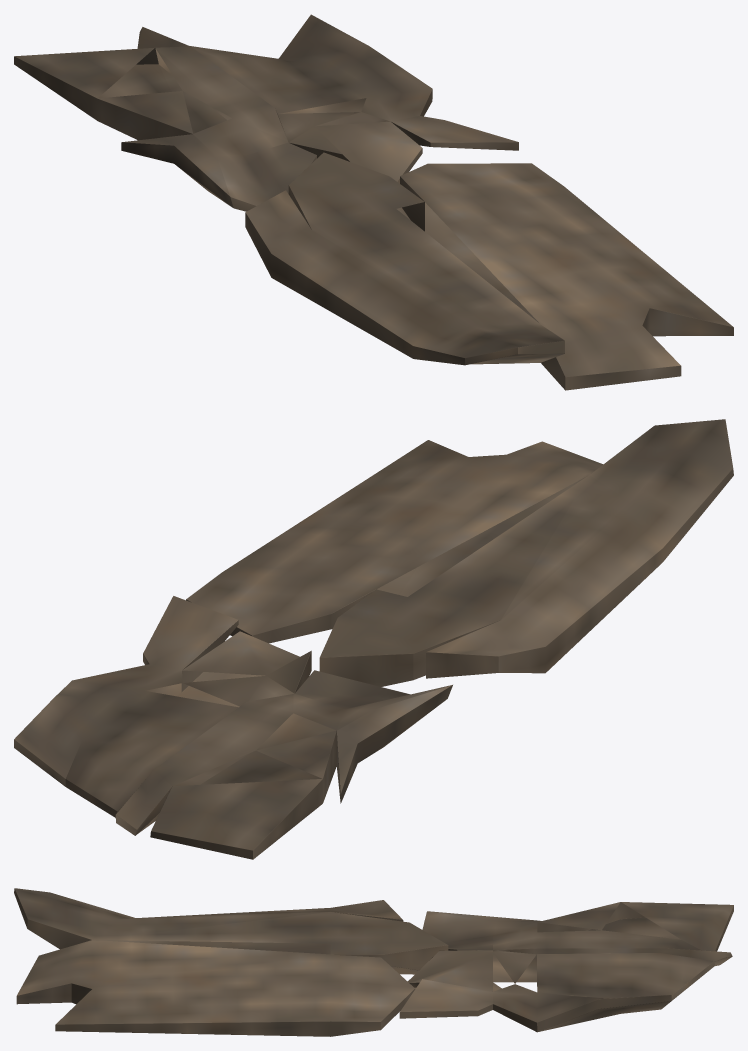
The model's file is Planche6.glb.
3 views of the same model, one above another, from view 1: azimuth 30°, elevation 25°; view 2: azimuth 150°, elevation 25°; view 3: azimuth 270°, elevation 25° (orthographic). The views are drawn at different scales.
Parts seen in each view (by area): view 1: plank_06_Broken_Planks_SHD_0; view 2: plank_06_Broken_Planks_SHD_0; view 3: plank_06_Broken_Planks_SHD_0.
Boxes of the visible parts, box(x1,y1,x2,y2) form: plank_06_Broken_Planks_SHD_0: box(14, 14, 733, 390); plank_06_Broken_Planks_SHD_0: box(14, 419, 733, 859); plank_06_Broken_Planks_SHD_0: box(14, 888, 733, 1036).
Bounding box in the file's own units: 1.05 × 0.2386 × 2.88.
1 material, 1 textured.
